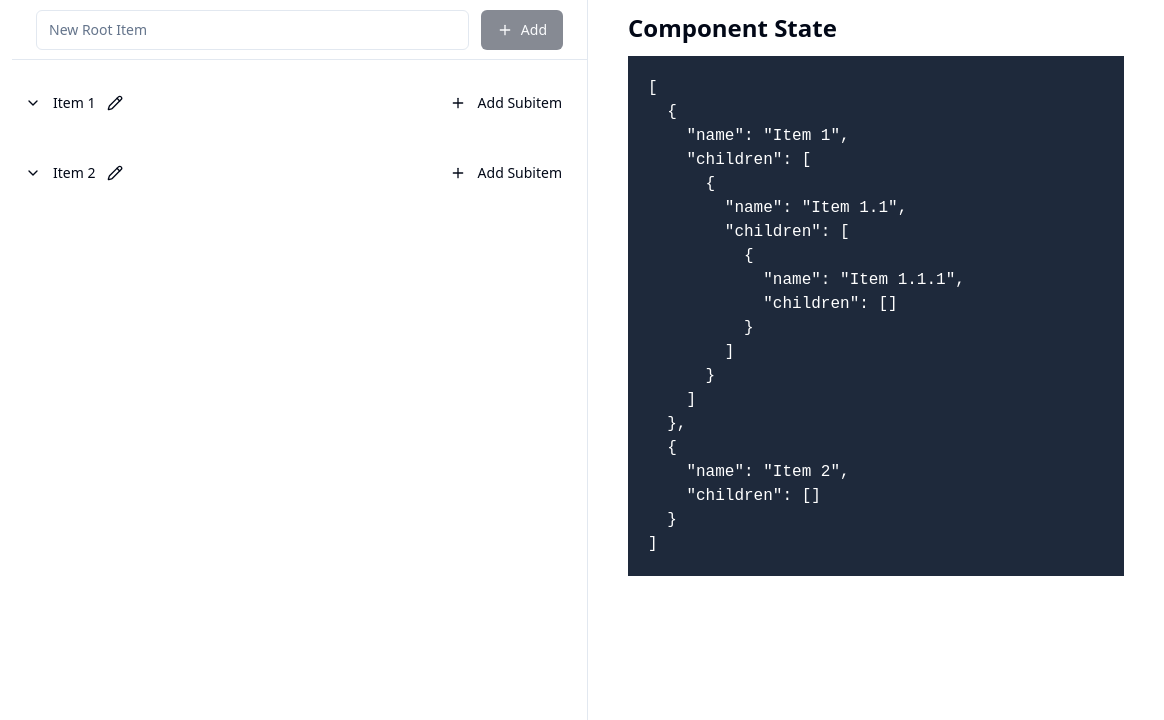
Test case: App › The accordian works correctly
Click the text "Item 1" at (74, 103), box [53,93,95,113]
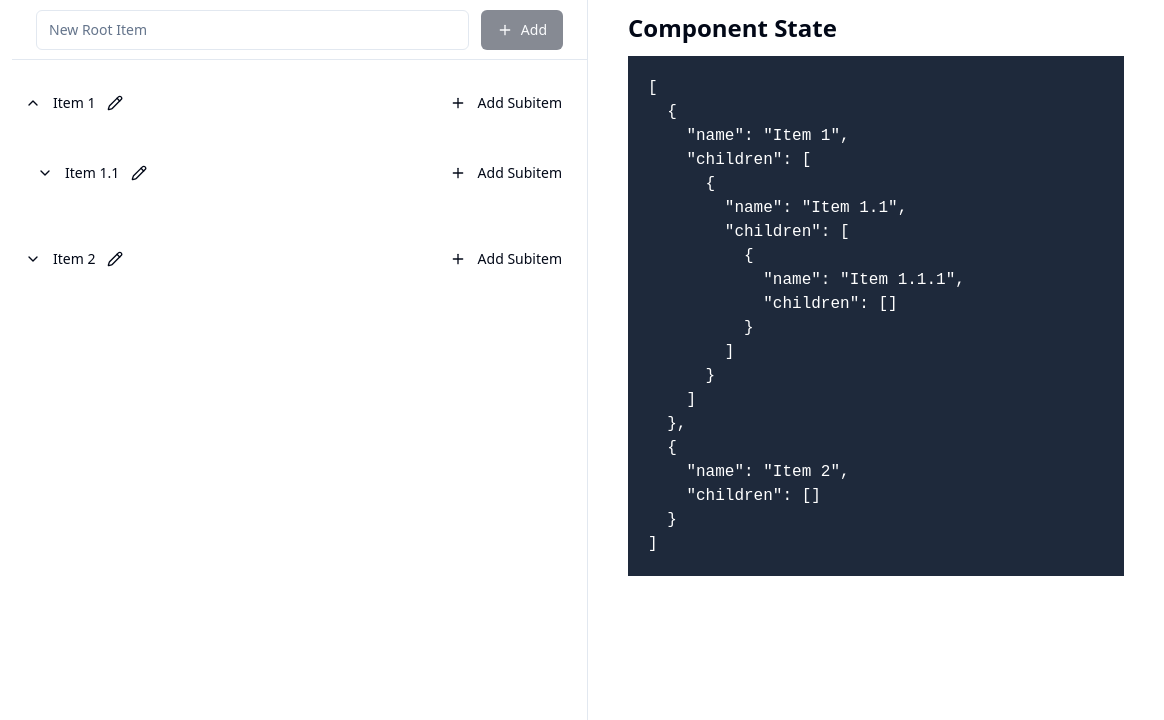
Now the text "Item 1.1" is shown, box [65,163,119,183]
